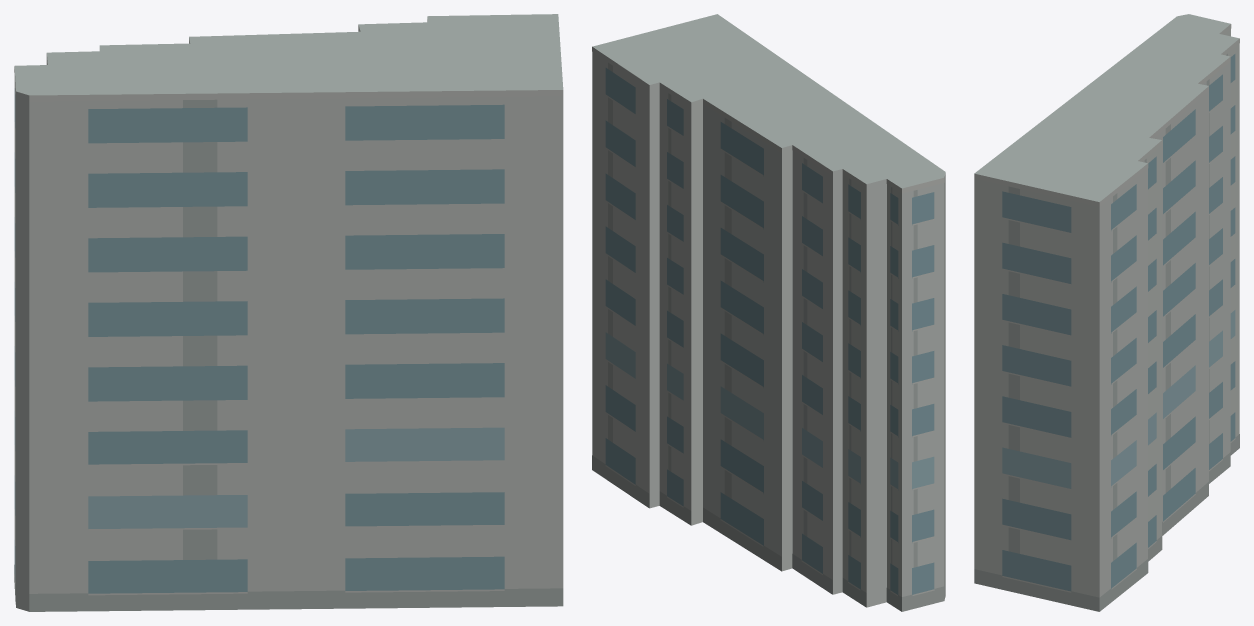
Rendered from survey-upis-32933886.glb.
The picture shows the model from 3 angles, left to right: view 1: azimuth 30°, elevation 25°; view 2: azimuth 150°, elevation 25°; view 3: azimuth 270°, elevation 25°; orthographic projection. The views are drawn at different scales.
Parts seen in each view (by area): view 1: survey-upis-32933886.tmp; view 2: survey-upis-32933886.tmp; view 3: survey-upis-32933886.tmp.
Boxes of the visible parts, x1,y1,x2,y2 form: survey-upis-32933886.tmp: (14,14,563,611); survey-upis-32933886.tmp: (592,14,945,611); survey-upis-32933886.tmp: (974,14,1239,611).
Size of the model in its own units: 19.61 by 19.9 by 11.7.
